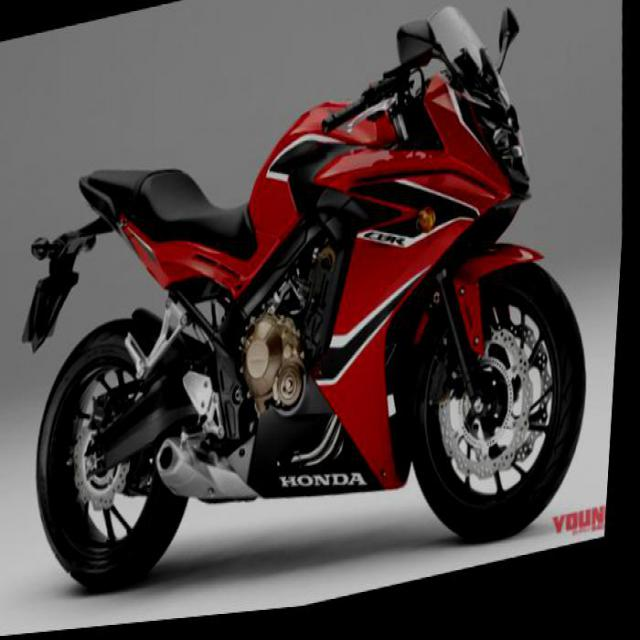CBR650R: (11, 0, 622, 636)
